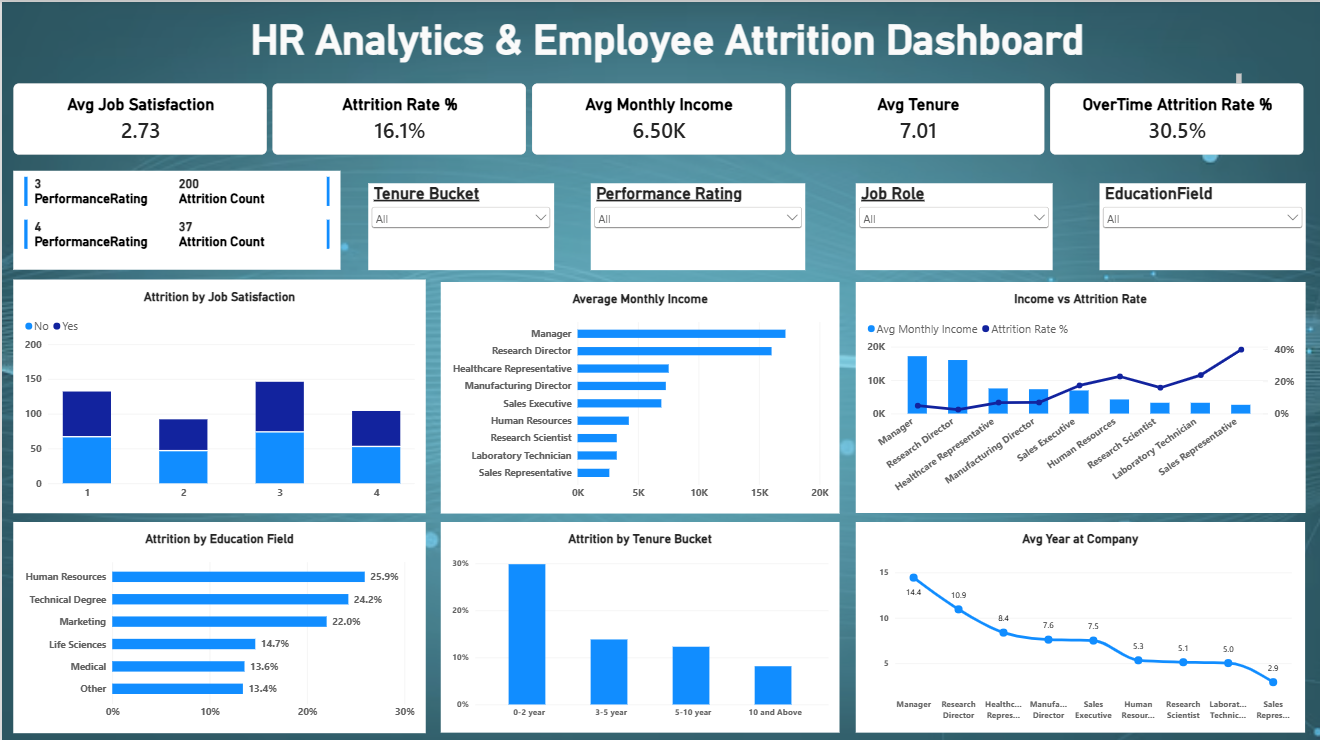

Layout of this report page (visuals, bound fields, positions):
{"tool":"powerbi","page":{"name":"Satisfaction & Retention","canvas":[1920,1080],"ordinal":1},"visuals":[{"type":"columnChart","title":"Attrition by Job Satisfaction ","fields":{"Category":["EmployeeData.JobSatisfaction"],"Series":["EmployeeData.Attrition"],"Y":["EmployeeData.Attrition Count"]},"box":[16,404,600,340],"z":0},{"type":"clusteredBarChart","title":"Average Monthly Income","fields":{"Category":["EmployeeData.JobRole"],"Y":["Avg(EmployeeData.MonthlyIncome)"]},"box":[638,407,580,337],"z":1},{"type":"clusteredColumnChart","title":"Attrition by Tenure Bucket","fields":{"Category":["EmployeeData.TenureBucket"],"Y":["EmployeeData.Attrition Rate %"]},"box":[638,756,580,306],"z":2},{"type":"clusteredBarChart","title":"Attrition by Education Field","fields":{"Category":["EmployeeData.EducationField"],"Y":["EmployeeData.Attrition Rate %"]},"box":[17,756,600,307],"z":3},{"type":"multiRowCard","fields":{"Values":["EmployeeData.PerformanceRating","EmployeeData.Attrition Count"]},"box":[16,246,476,144],"z":4},{"type":"lineChart","title":"Avg Year at Company","fields":{"Category":["EmployeeData.JobRole"],"Y":["EmployeeData.Avg Years At Company"]},"box":[1241.7,756.7,653.3,306.7],"z":5},{"type":"lineClusteredColumnComboChart","title":" Income vs Attrition Rate ","fields":{"Category":["EmployeeData.JobRole"],"Y":["EmployeeData.Avg Monthly Income"],"Y2":["EmployeeData.Attrition Rate %"]},"box":[1242,408,654,336],"z":6},{"type":"textbox","title":"HR Analytics & Employee Attrition Dashboard","box":[132,20,1670,98],"z":7},{"type":"slicer","fields":{"Values":["EmployeeData.EducationField"]},"box":[1596,264,300,126],"z":8},{"type":"slicer","fields":{"Values":["EmployeeData.TenureBucket"]},"box":[532,264,270,126],"z":9},{"type":"slicer","fields":{"Values":["EmployeeData.PerformanceRating"]},"box":[856,264,312,126],"z":10},{"type":"slicer","fields":{"Values":["EmployeeData.JobRole"]},"box":[1242,264,286,126],"z":11},{"type":"cardVisual","fields":{"Data":["EmployeeData.Avg Job Satisfaction","EmployeeData.Attrition Rate %","EmployeeData.Avg Monthly Income","EmployeeData.Avg Years At Company","EmployeeData.OverTime Attrition Rate %"]},"box":[16,118,1880,104],"z":12}]}

Visuals, with their boxes in screenshot pixels (x1, y1, x2, y2), scaled from the page's 1920x1080 canvas onto the 1320x740 screenshot:
"Attrition by Job Satisfaction " columnChart: box(11, 277, 424, 510)
"Average Monthly Income" clusteredBarChart: box(439, 279, 837, 510)
"Attrition by Tenure Bucket" clusteredColumnChart: box(439, 518, 837, 728)
"Attrition by Education Field" clusteredBarChart: box(12, 518, 424, 728)
multiRowCard - EmployeeData.PerformanceRating x EmployeeData.Attrition Count: box(11, 169, 338, 267)
"Avg Year at Company" lineChart: box(854, 518, 1303, 729)
" Income vs Attrition Rate " lineClusteredColumnComboChart: box(854, 280, 1304, 510)
"HR Analytics & Employee Attrition Dashboard" textbox: box(91, 14, 1239, 81)
slicer - EmployeeData.EducationField: box(1097, 181, 1304, 267)
slicer - EmployeeData.TenureBucket: box(366, 181, 551, 267)
slicer - EmployeeData.PerformanceRating: box(588, 181, 803, 267)
slicer - EmployeeData.JobRole: box(854, 181, 1050, 267)
cardVisual - EmployeeData.Avg Job Satisfaction x EmployeeData.Attrition Rate %: box(11, 81, 1304, 152)
